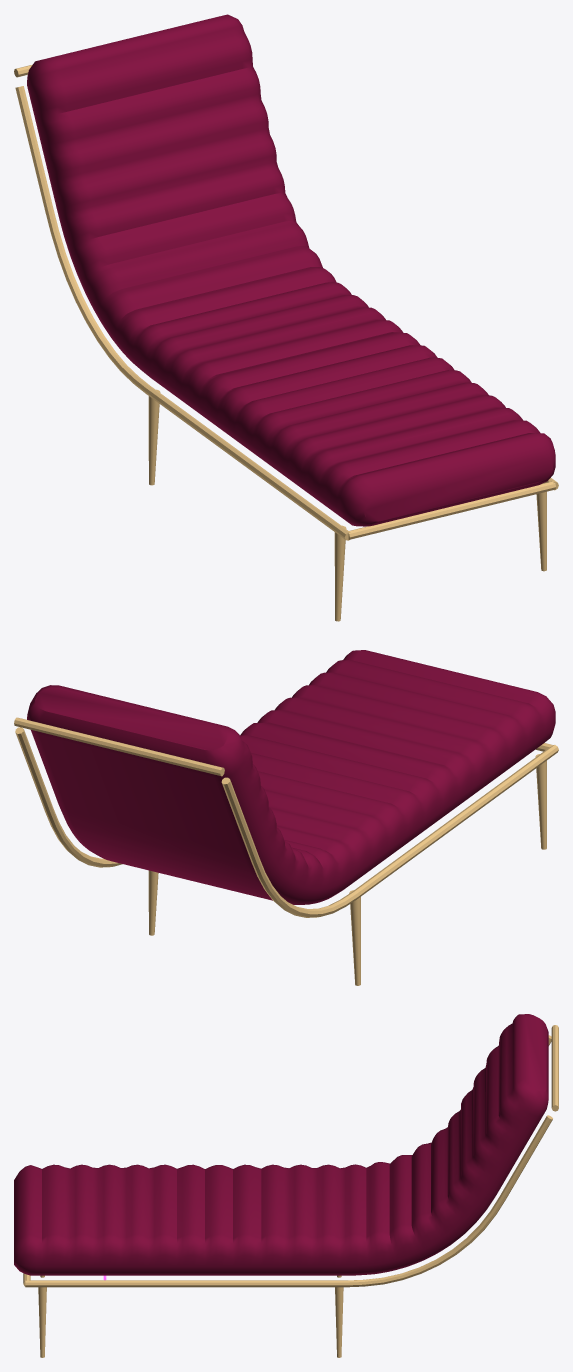
Rendered from JAC_06_Chaise.glb.
3 views of the same model, one above another, from view 1: azimuth 30°, elevation 25°; view 2: azimuth 150°, elevation 25°; view 3: azimuth 270°, elevation 25° (orthographic). The views are drawn at different scales.
Visible parts, largest first — view 1: JAC_06_Chaise; view 2: JAC_06_Chaise; view 3: JAC_06_Chaise.
Boxes of the visible parts, x1=… form: JAC_06_Chaise: x1=14, y1=14, x2=558, y2=621; JAC_06_Chaise: x1=14, y1=650, x2=558, y2=985; JAC_06_Chaise: x1=14, y1=1014, x2=558, y2=1357.
Size of the model in its own units: 0.758 by 1.14 by 2.09.
